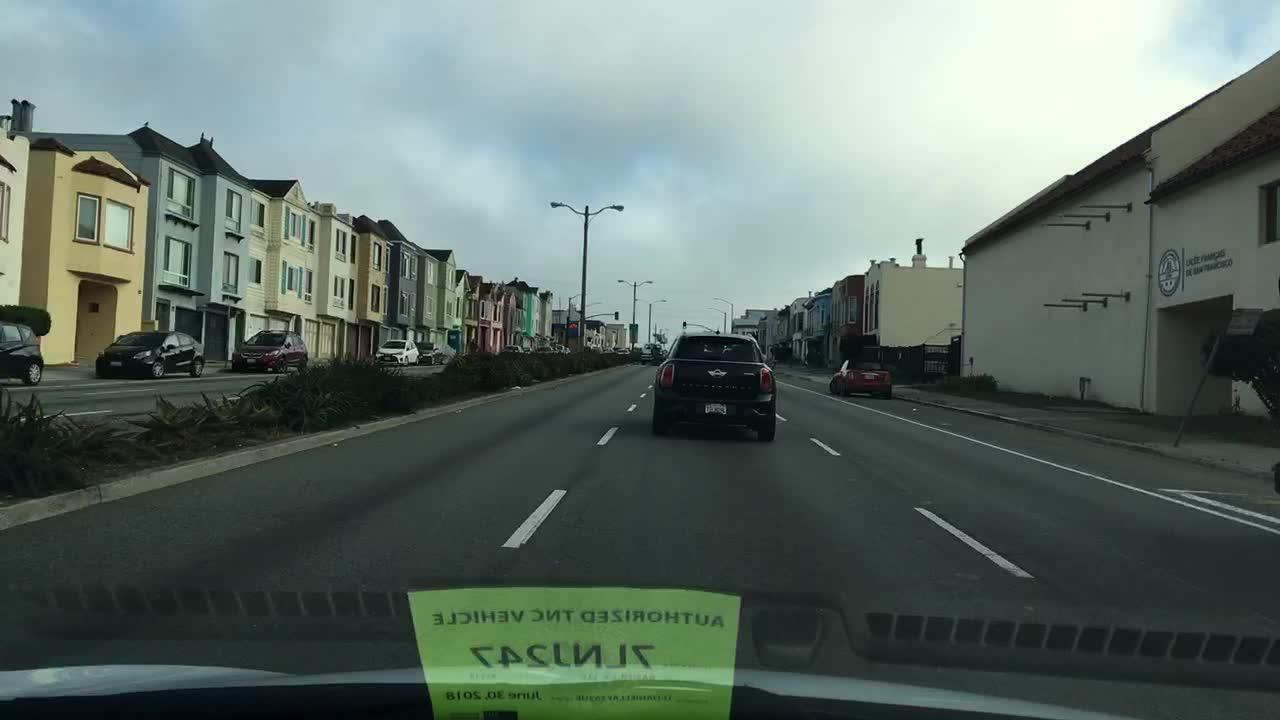mini: (707, 366, 727, 379)
